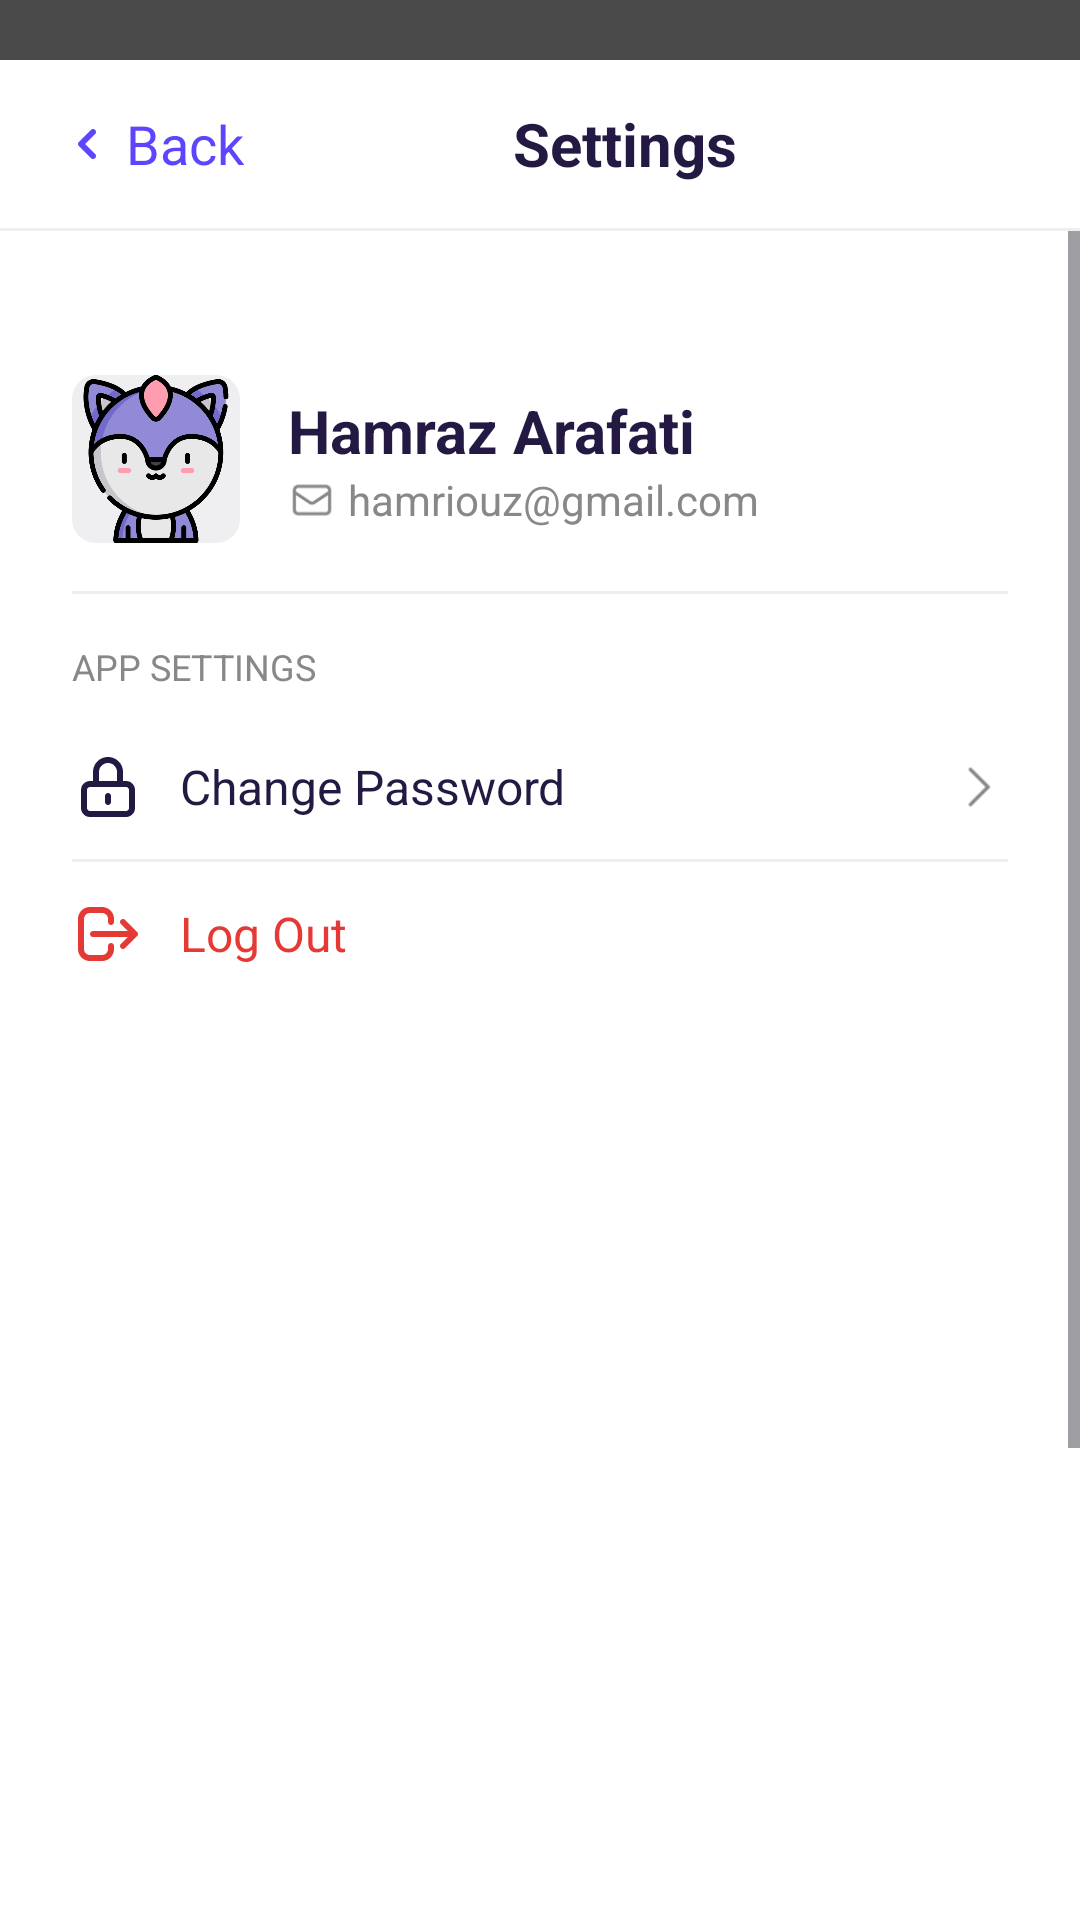

Screen size 1080 × 1920. Icon name, then its box in pixels as [x1,y1,x2,y2]:
cheveron right: [968,767,990,807]
email: [292,484,332,516]
lock: [81,757,135,817]
